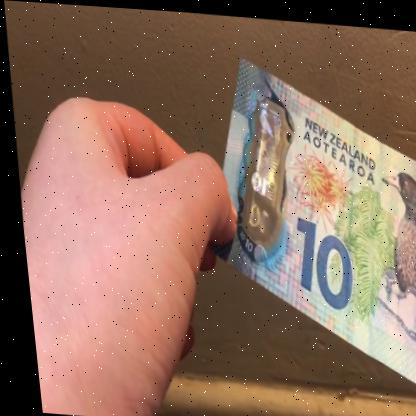10F: (230, 98, 289, 231)
